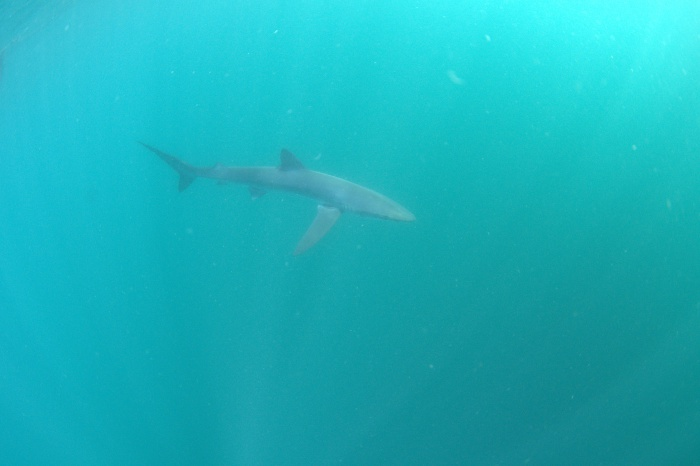Azul: (136, 129, 427, 264)
